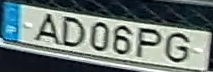0: (88, 20, 110, 52)
6: (111, 24, 134, 55)
A: (31, 11, 61, 46)
D: (61, 15, 86, 49)
G: (163, 30, 192, 64)
P: (133, 26, 163, 59)
